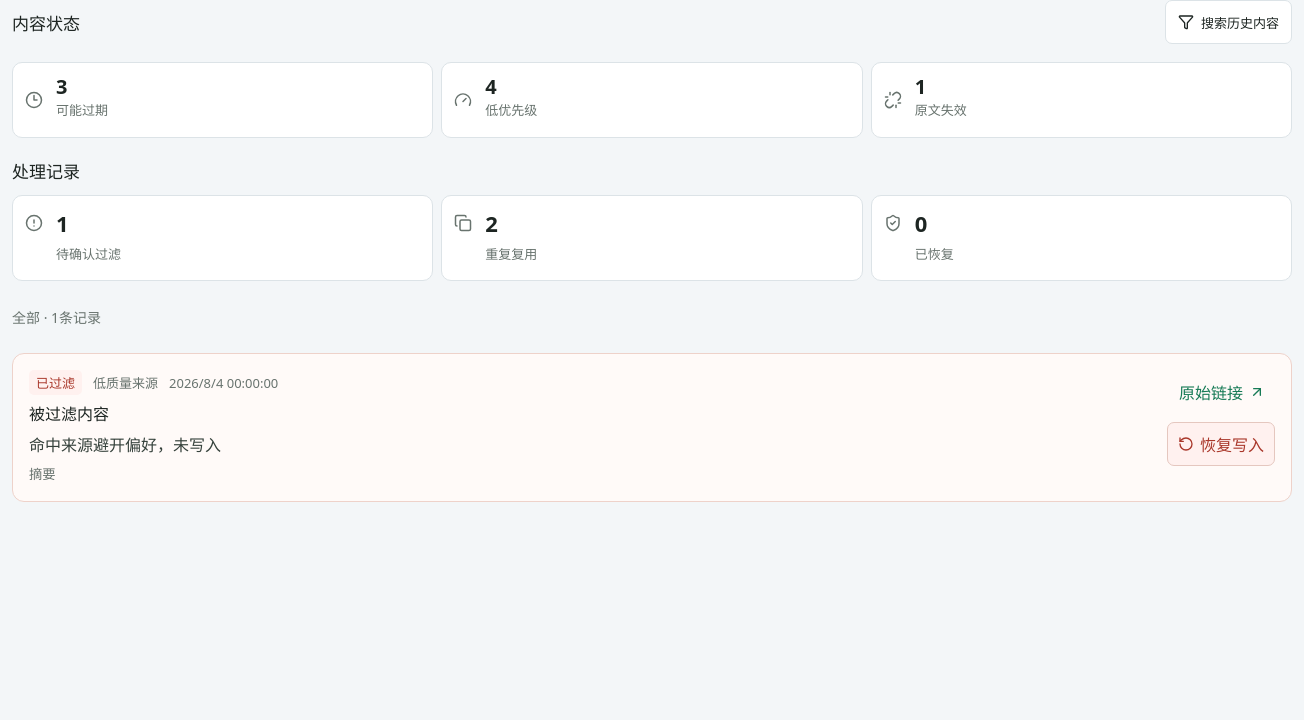
展示过滤理由并允许恢复写入
Check: the heading "被过滤内容" is shown, box [29, 403, 109, 425]
Check: the text "命中来源避开偏好，未写入" is shown, box [29, 434, 221, 456]
Click the button "恢复写入". click: click(1221, 444)
box: [1167, 422, 1275, 466]
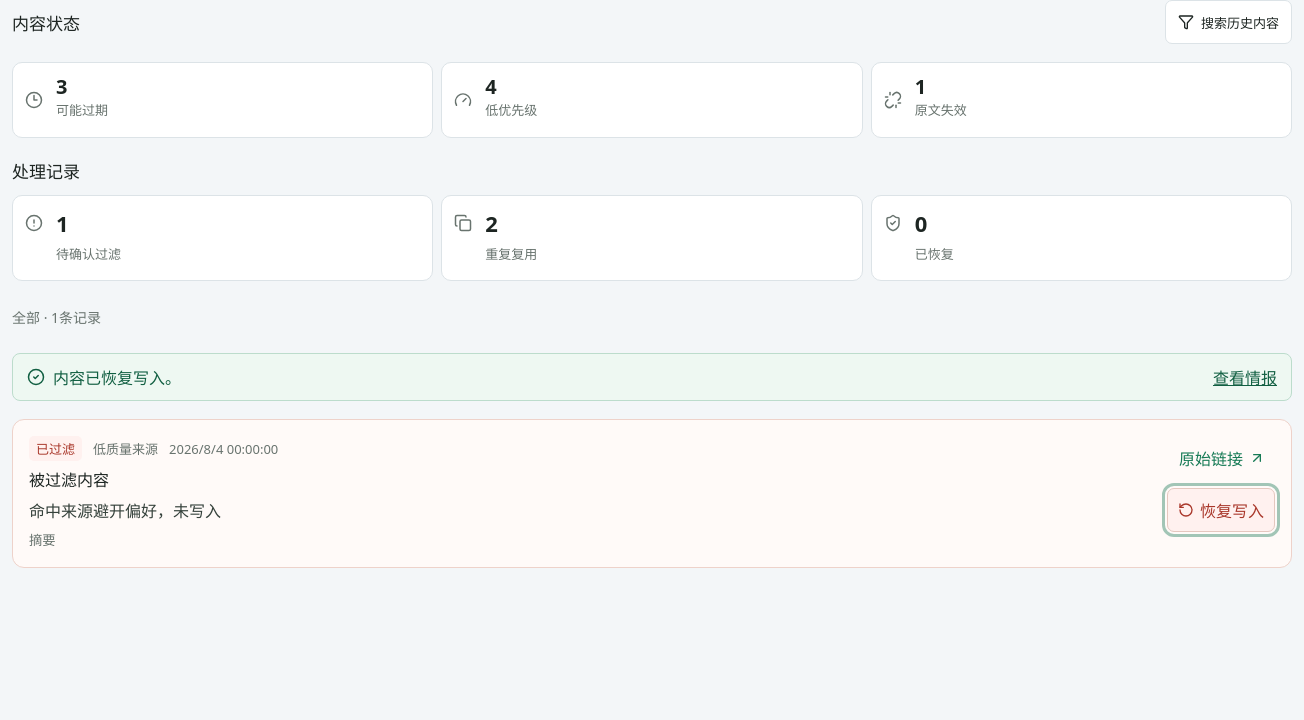
Check: the text "内容已恢复写入。" is shown, box [53, 367, 181, 389]
